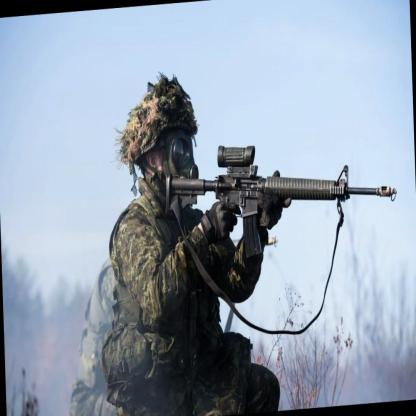rifle: (161, 138, 399, 266)
